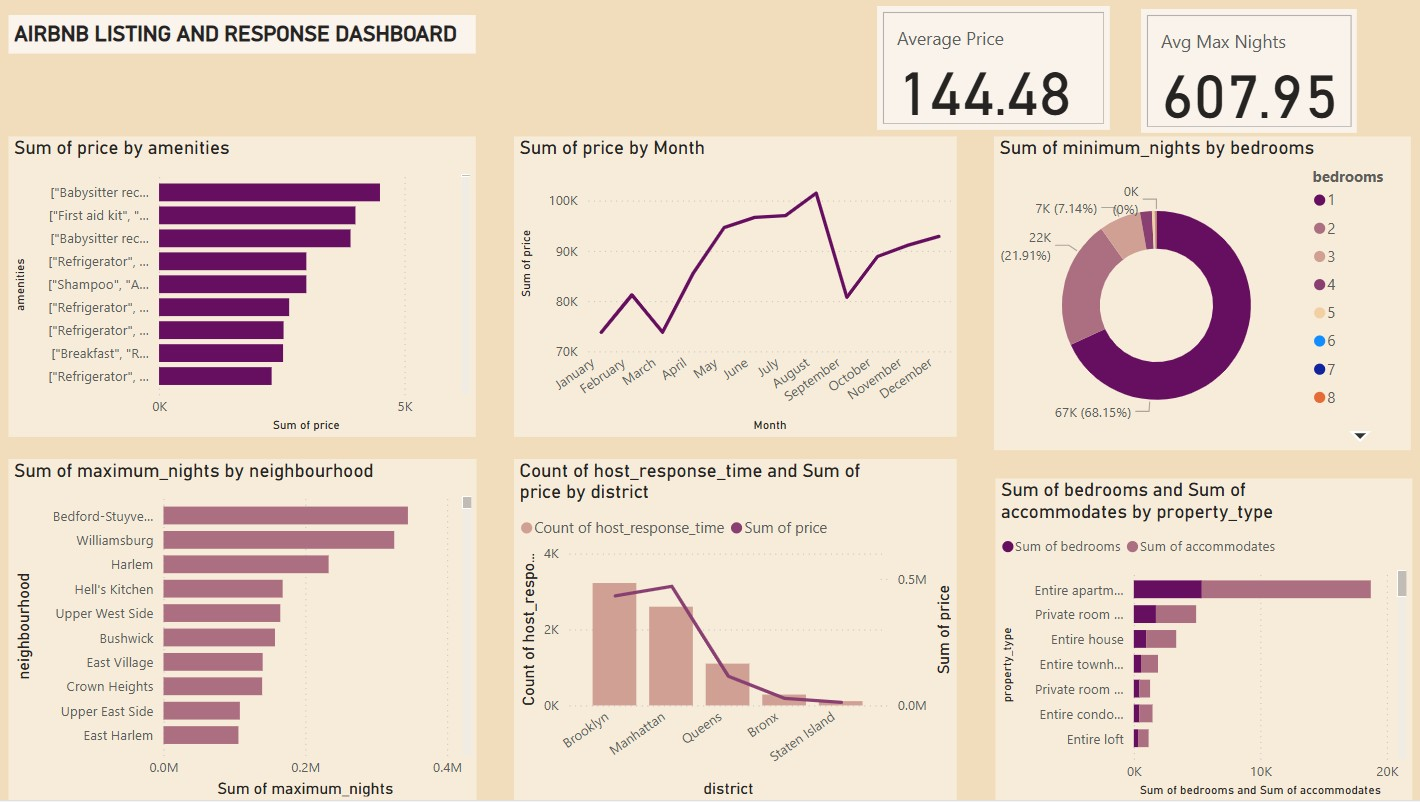

This screenshot's page, from the dashboard's own definition file:
{"tool":"powerbi","page":{"name":"Page 1","canvas":[1280,720],"ordinal":0},"visuals":[{"type":"clusteredBarChart","fields":{"Y":["Sum(Listings.price)"],"Category":["Listings.amenities"]},"box":[9.3,123.3,419.8,269.8],"z":0},{"type":"donutChart","fields":{"Series":["Listings.bedrooms"],"Y":["Sum(Listings.minimum_nights)"]},"box":[895.4,123.3,374.4,282.2],"z":0,"group":"g1"},{"type":"clusteredBarChart","fields":{"Y":["Sum(Listings.maximum_nights)"],"Category":["Listings.neighbourhood"]},"box":[9.3,412.8,420.9,308.1],"z":1000},{"type":"barChart","fields":{"Category":["Listings.property_type"],"Y":["Sum(Listings.bedrooms)","Sum(Listings.accommodates)"]},"box":[896.6,431.1,374.4,289.9],"z":1000,"group":"g1"},{"type":"lineChart","fields":{"Category":["Listings.host_since.Variation.Date Hierarchy.Year","Listings.host_since.Variation.Date Hierarchy.Month","Listings.host_since.Variation.Date Hierarchy.Day"],"Y":["Sum(Listings.price)"]},"box":[464,123.3,397.7,269.8],"z":2000},{"type":"lineStackedColumnComboChart","fields":{"Category":["Listings.district"],"Y":["CountNonNull(Listings.host_response_time)"],"Y2":["Sum(Listings.price)"]},"box":[464,412.8,397.7,308.1],"z":3000},{"type":"group","id":"g1","title":"Visuals ","box":[895.4,123.3,375.6,597.7],"z":5000},{"type":"textbox","box":[9.3,14,419.8,34.9],"z":5001},{"type":"cardVisual","fields":{"Data":["Listings.Average Price"]},"box":[790.7,5.8,209.3,111.6],"z":5002},{"type":"cardVisual","fields":{"Data":["Listings.Avg Max Nights"]},"box":[1027.9,8.1,194.2,111.6],"z":5003}]}

Visuals, with their boxes in screenshot pixels (x1, y1, x2, y2), scaled from the page's 1280x720 canvas onto the 1420x802 screenshot:
clusteredBarChart - Sum(Listings.price) x Listings.amenities: pyautogui.locateOnScreen(10, 137, 476, 438)
donutChart - Listings.bedrooms x Sum(Listings.minimum_nights): pyautogui.locateOnScreen(993, 137, 1409, 452)
clusteredBarChart - Sum(Listings.maximum_nights) x Listings.neighbourhood: pyautogui.locateOnScreen(10, 460, 477, 801)
barChart - Listings.property_type x Sum(Listings.bedrooms): pyautogui.locateOnScreen(995, 480, 1410, 801)
lineChart - Listings.host_since.Variation.Date Hierarchy.Year x Listings.host_since.Variation.Date Hierarchy.Month: pyautogui.locateOnScreen(515, 137, 956, 438)
lineStackedColumnComboChart - Listings.district x CountNonNull(Listings.host_response_time): pyautogui.locateOnScreen(515, 460, 956, 801)
"Visuals " group: pyautogui.locateOnScreen(993, 137, 1410, 801)
textbox: pyautogui.locateOnScreen(10, 16, 476, 54)
cardVisual - Listings.Average Price: pyautogui.locateOnScreen(877, 6, 1109, 131)
cardVisual - Listings.Avg Max Nights: pyautogui.locateOnScreen(1140, 9, 1356, 133)
